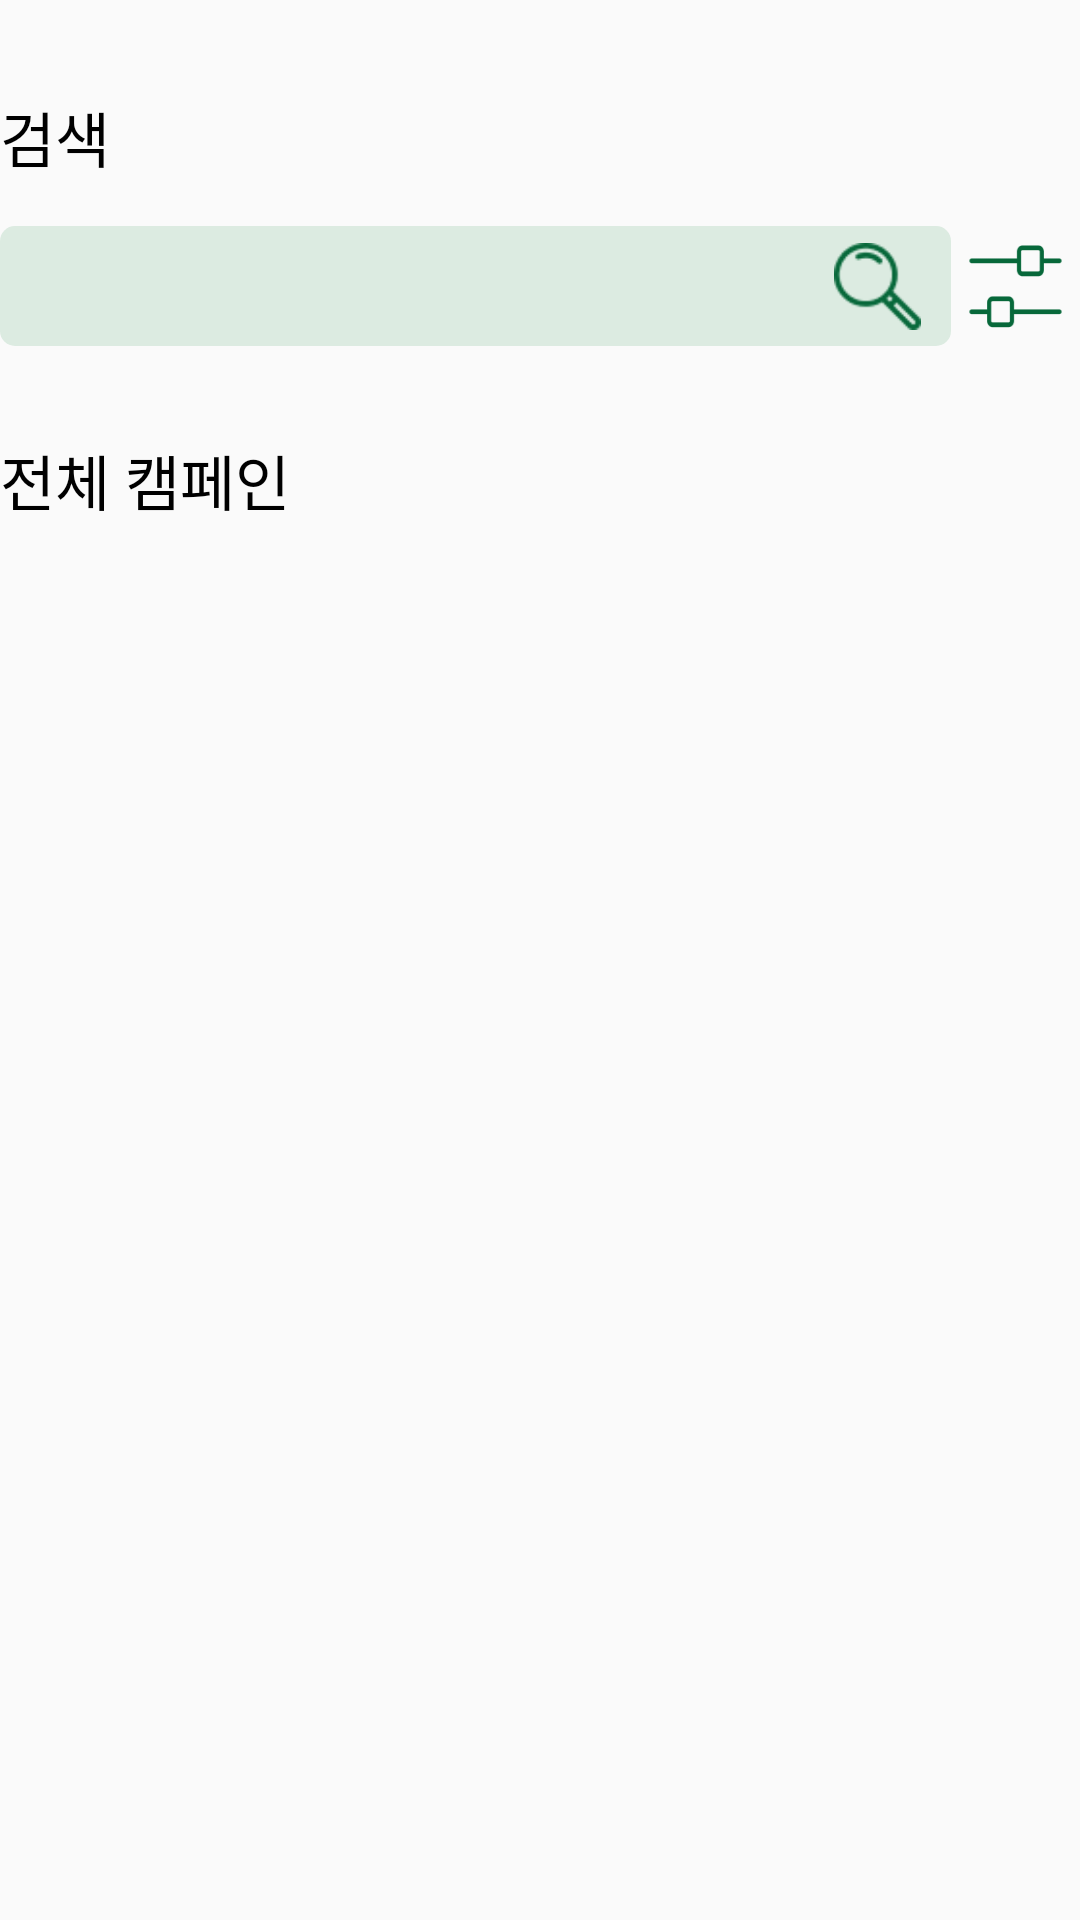

Screen size 1080x1920. Icon name, then its box in pixels as (x1, y1, x2, y2):
filter: (969, 245, 1062, 328)
search: (834, 243, 921, 330)
